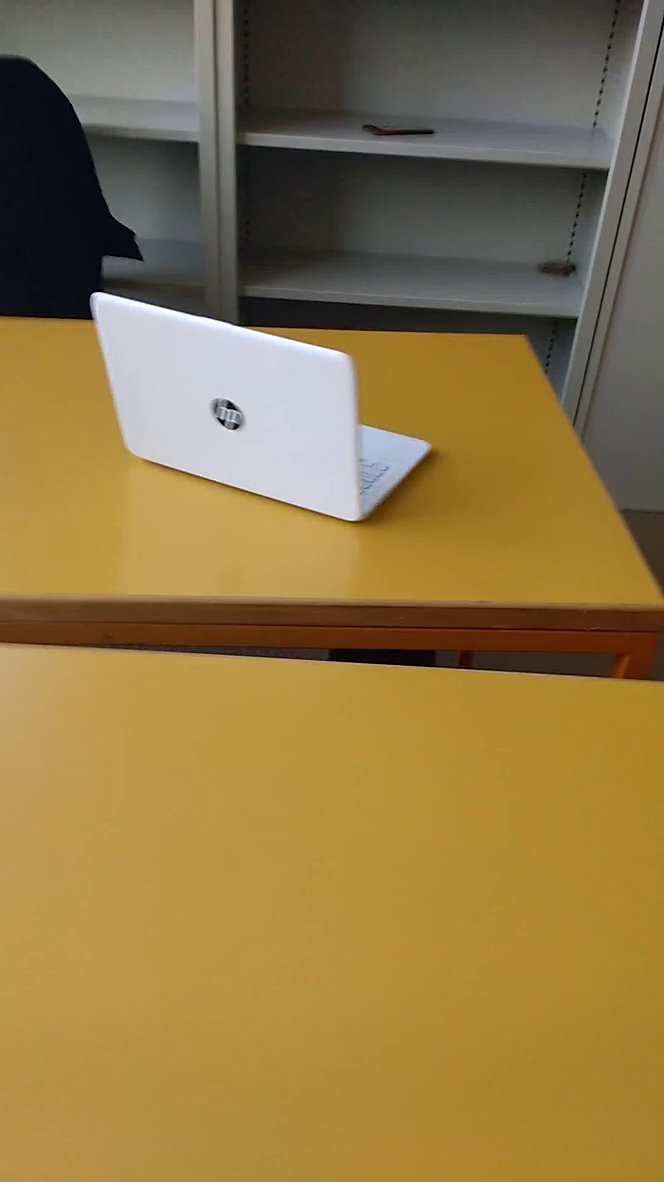laptop: (82, 278, 444, 533)
